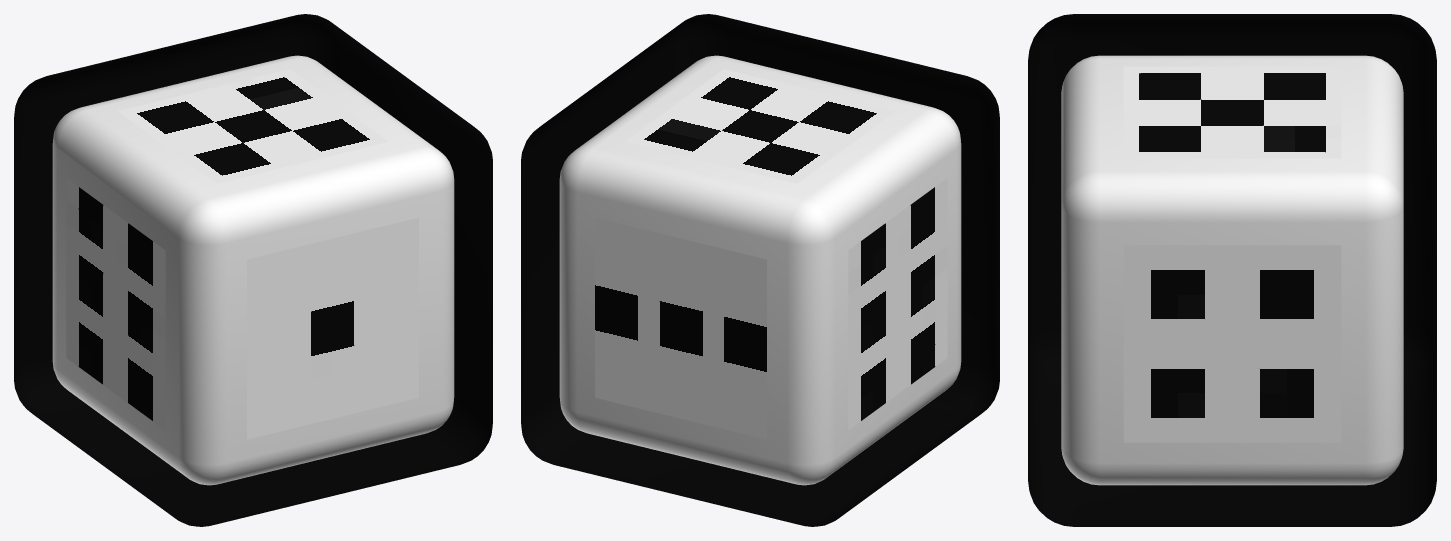
File: dice.fbx
3 renders of one model, left to right at view 1: azimuth 30°, elevation 25°; view 2: azimuth 150°, elevation 25°; view 3: azimuth 270°, elevation 25°, orthographic. The views are drawn at different scales.
Parts seen in each view (by area): view 1: Cube; view 2: Cube; view 3: Cube.
Part boxes in pixels (left/top/right/bottom): Cube: left=14, top=14, right=492, bottom=526; Cube: left=521, top=14, right=999, bottom=526; Cube: left=1028, top=14, right=1436, bottom=526.
Bounding box in the file's own units: 2.35 × 2.35 × 2.35.
1 material, 1 textured.
